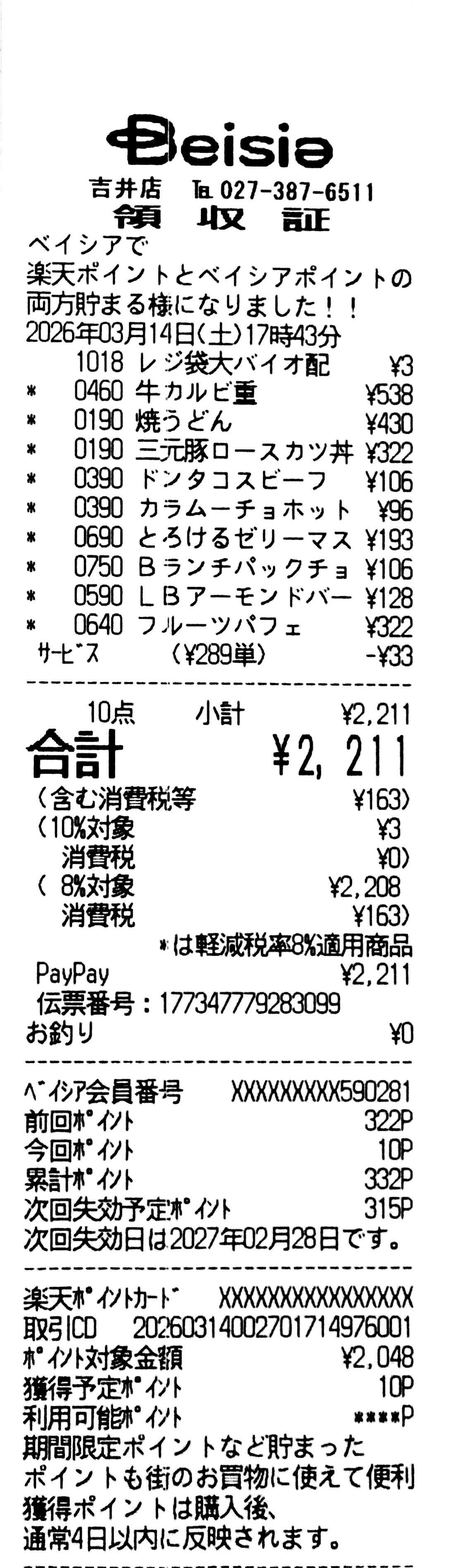Date: (26, 321, 195, 346)
Pay: (26, 727, 404, 780)
Shopname: (106, 113, 334, 169)
Telnum: (220, 179, 375, 202)
